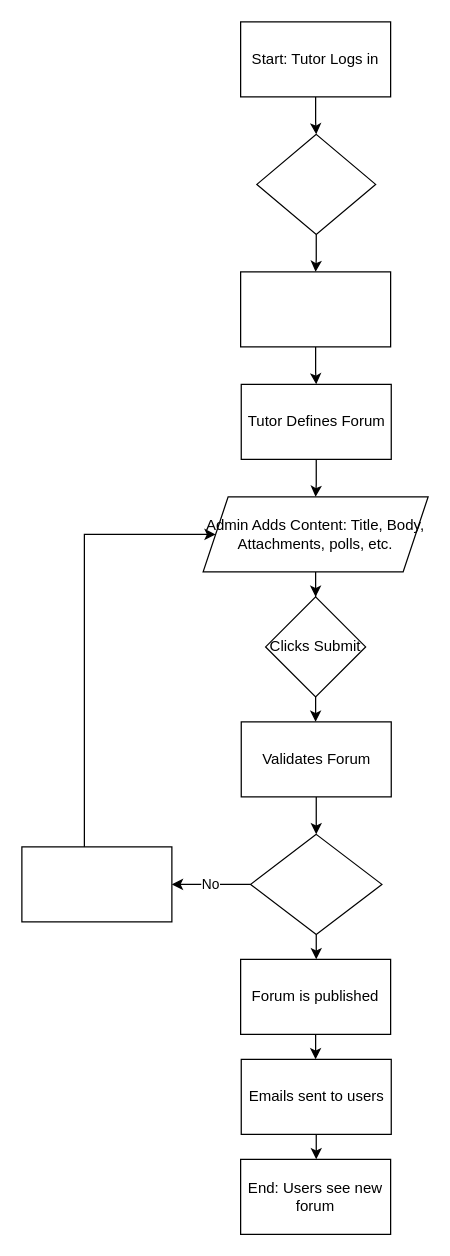
This 450x1256 diagram has some shape labels left out. The shapes that lost their labels are listed below. From the top down, each one's centre as x and y in pixels, then its label:
point 316,183: Clicks Create Forum
point 315,309: Composer interface Opens
point 96,884: Show Error message
point 315,883: Validation and Checks pass?
